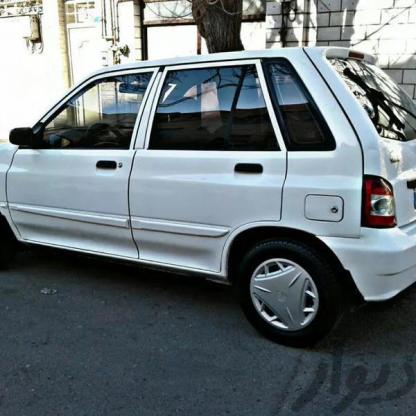Car: (0, 48, 416, 358)
